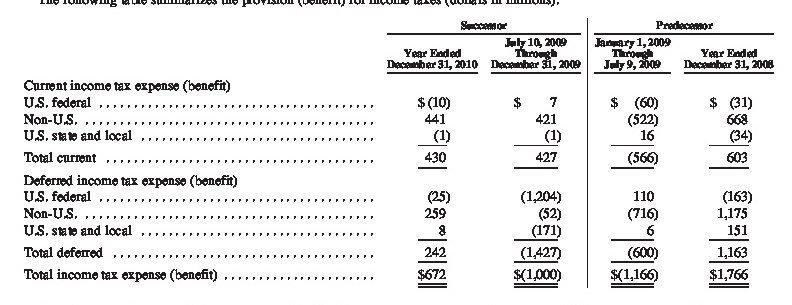table: (0, 0, 792, 305)
